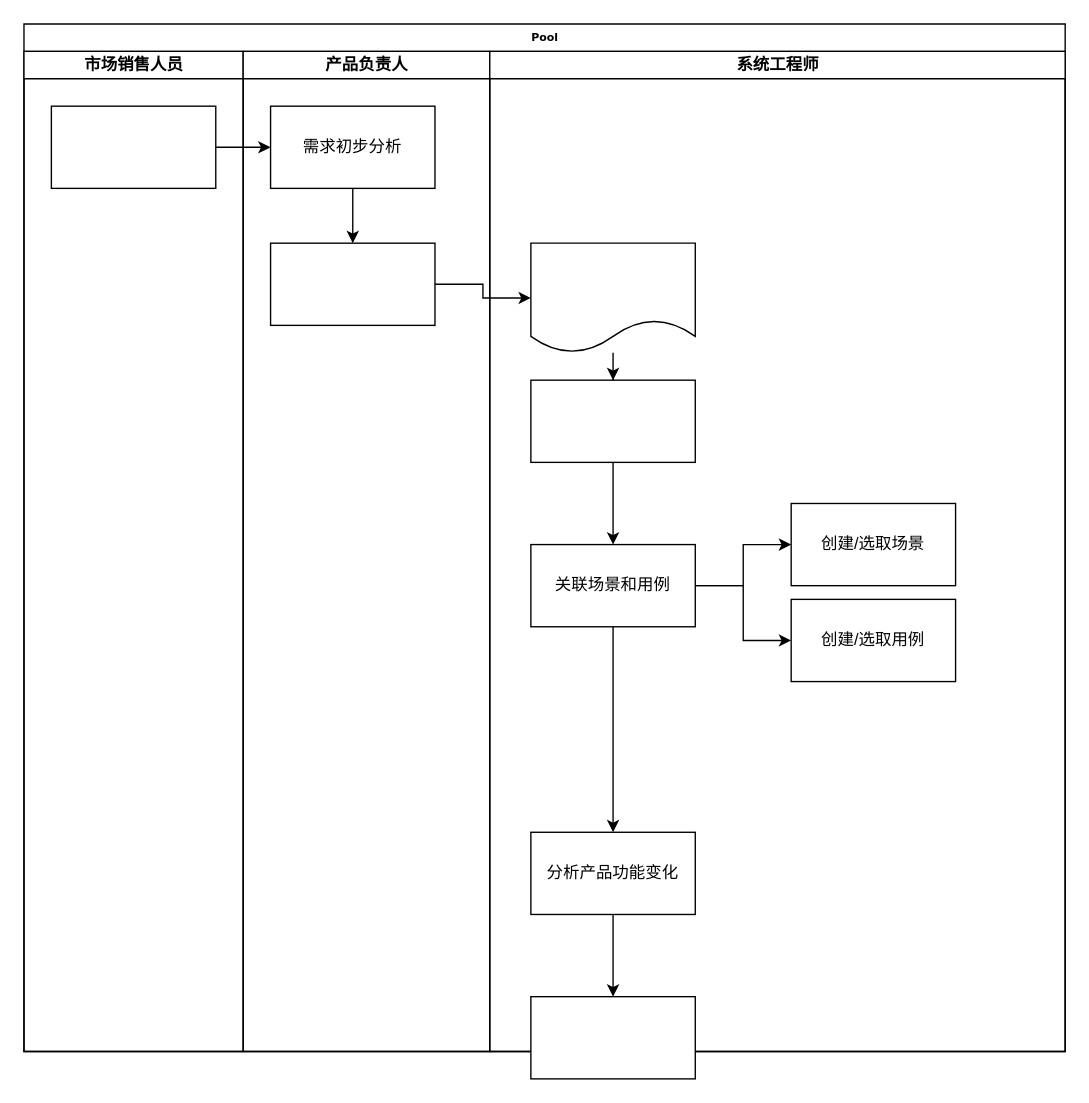
Image size: 1089x1103. Some labels were removed from this diagram. The centre of each missing label's shape, as x and y in pixels:
5W内容分析: [612,420]
初始需求（IR): [612,297]
标准化描述: [352,283]
获取原始需求: [133,146]
